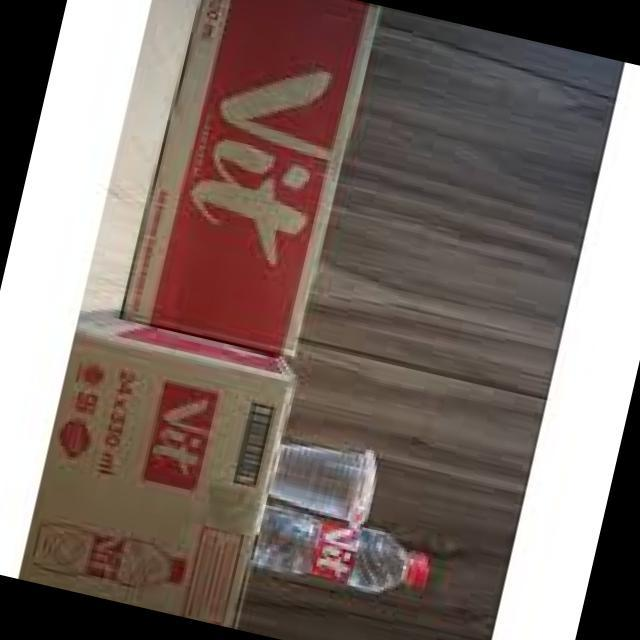good: (246, 504, 434, 639)
